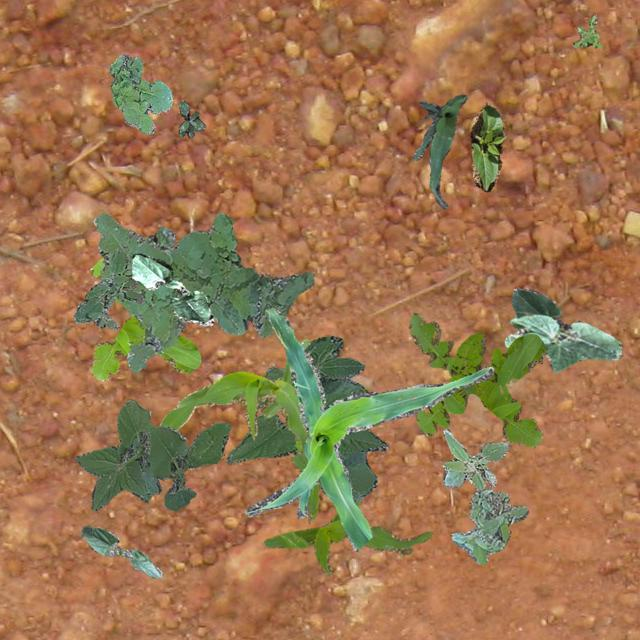crop: (245, 306, 492, 550), (159, 338, 317, 520), (226, 334, 387, 500), (263, 496, 432, 574), (504, 286, 622, 372), (412, 94, 466, 208), (130, 252, 212, 324), (80, 524, 162, 576), (470, 101, 504, 190)
weed: (93, 212, 313, 372), (408, 312, 544, 446), (74, 398, 230, 509), (90, 256, 200, 380), (449, 486, 526, 564), (72, 248, 142, 328), (108, 54, 172, 134), (442, 428, 509, 490), (572, 15, 602, 48), (178, 100, 205, 136), (146, 226, 174, 248)
